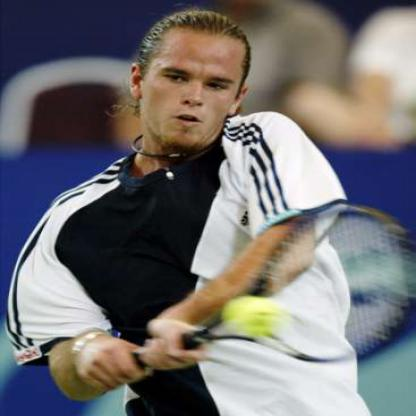face: (143, 11, 245, 153)
